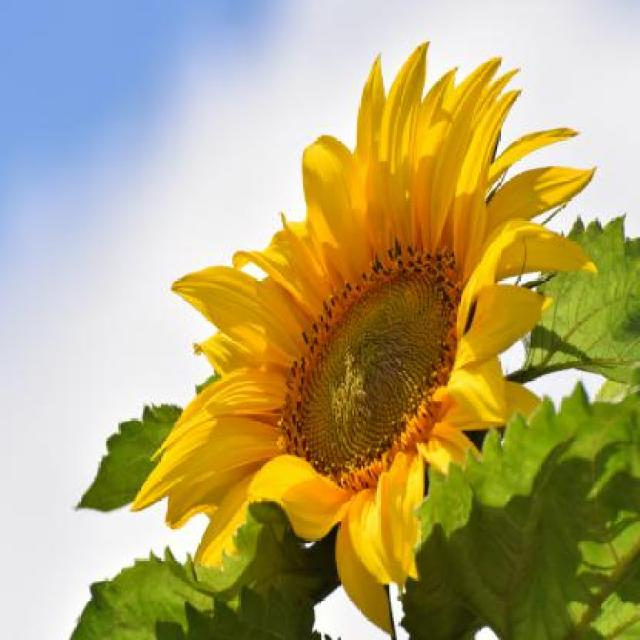sunflower: (143, 49, 605, 596)
